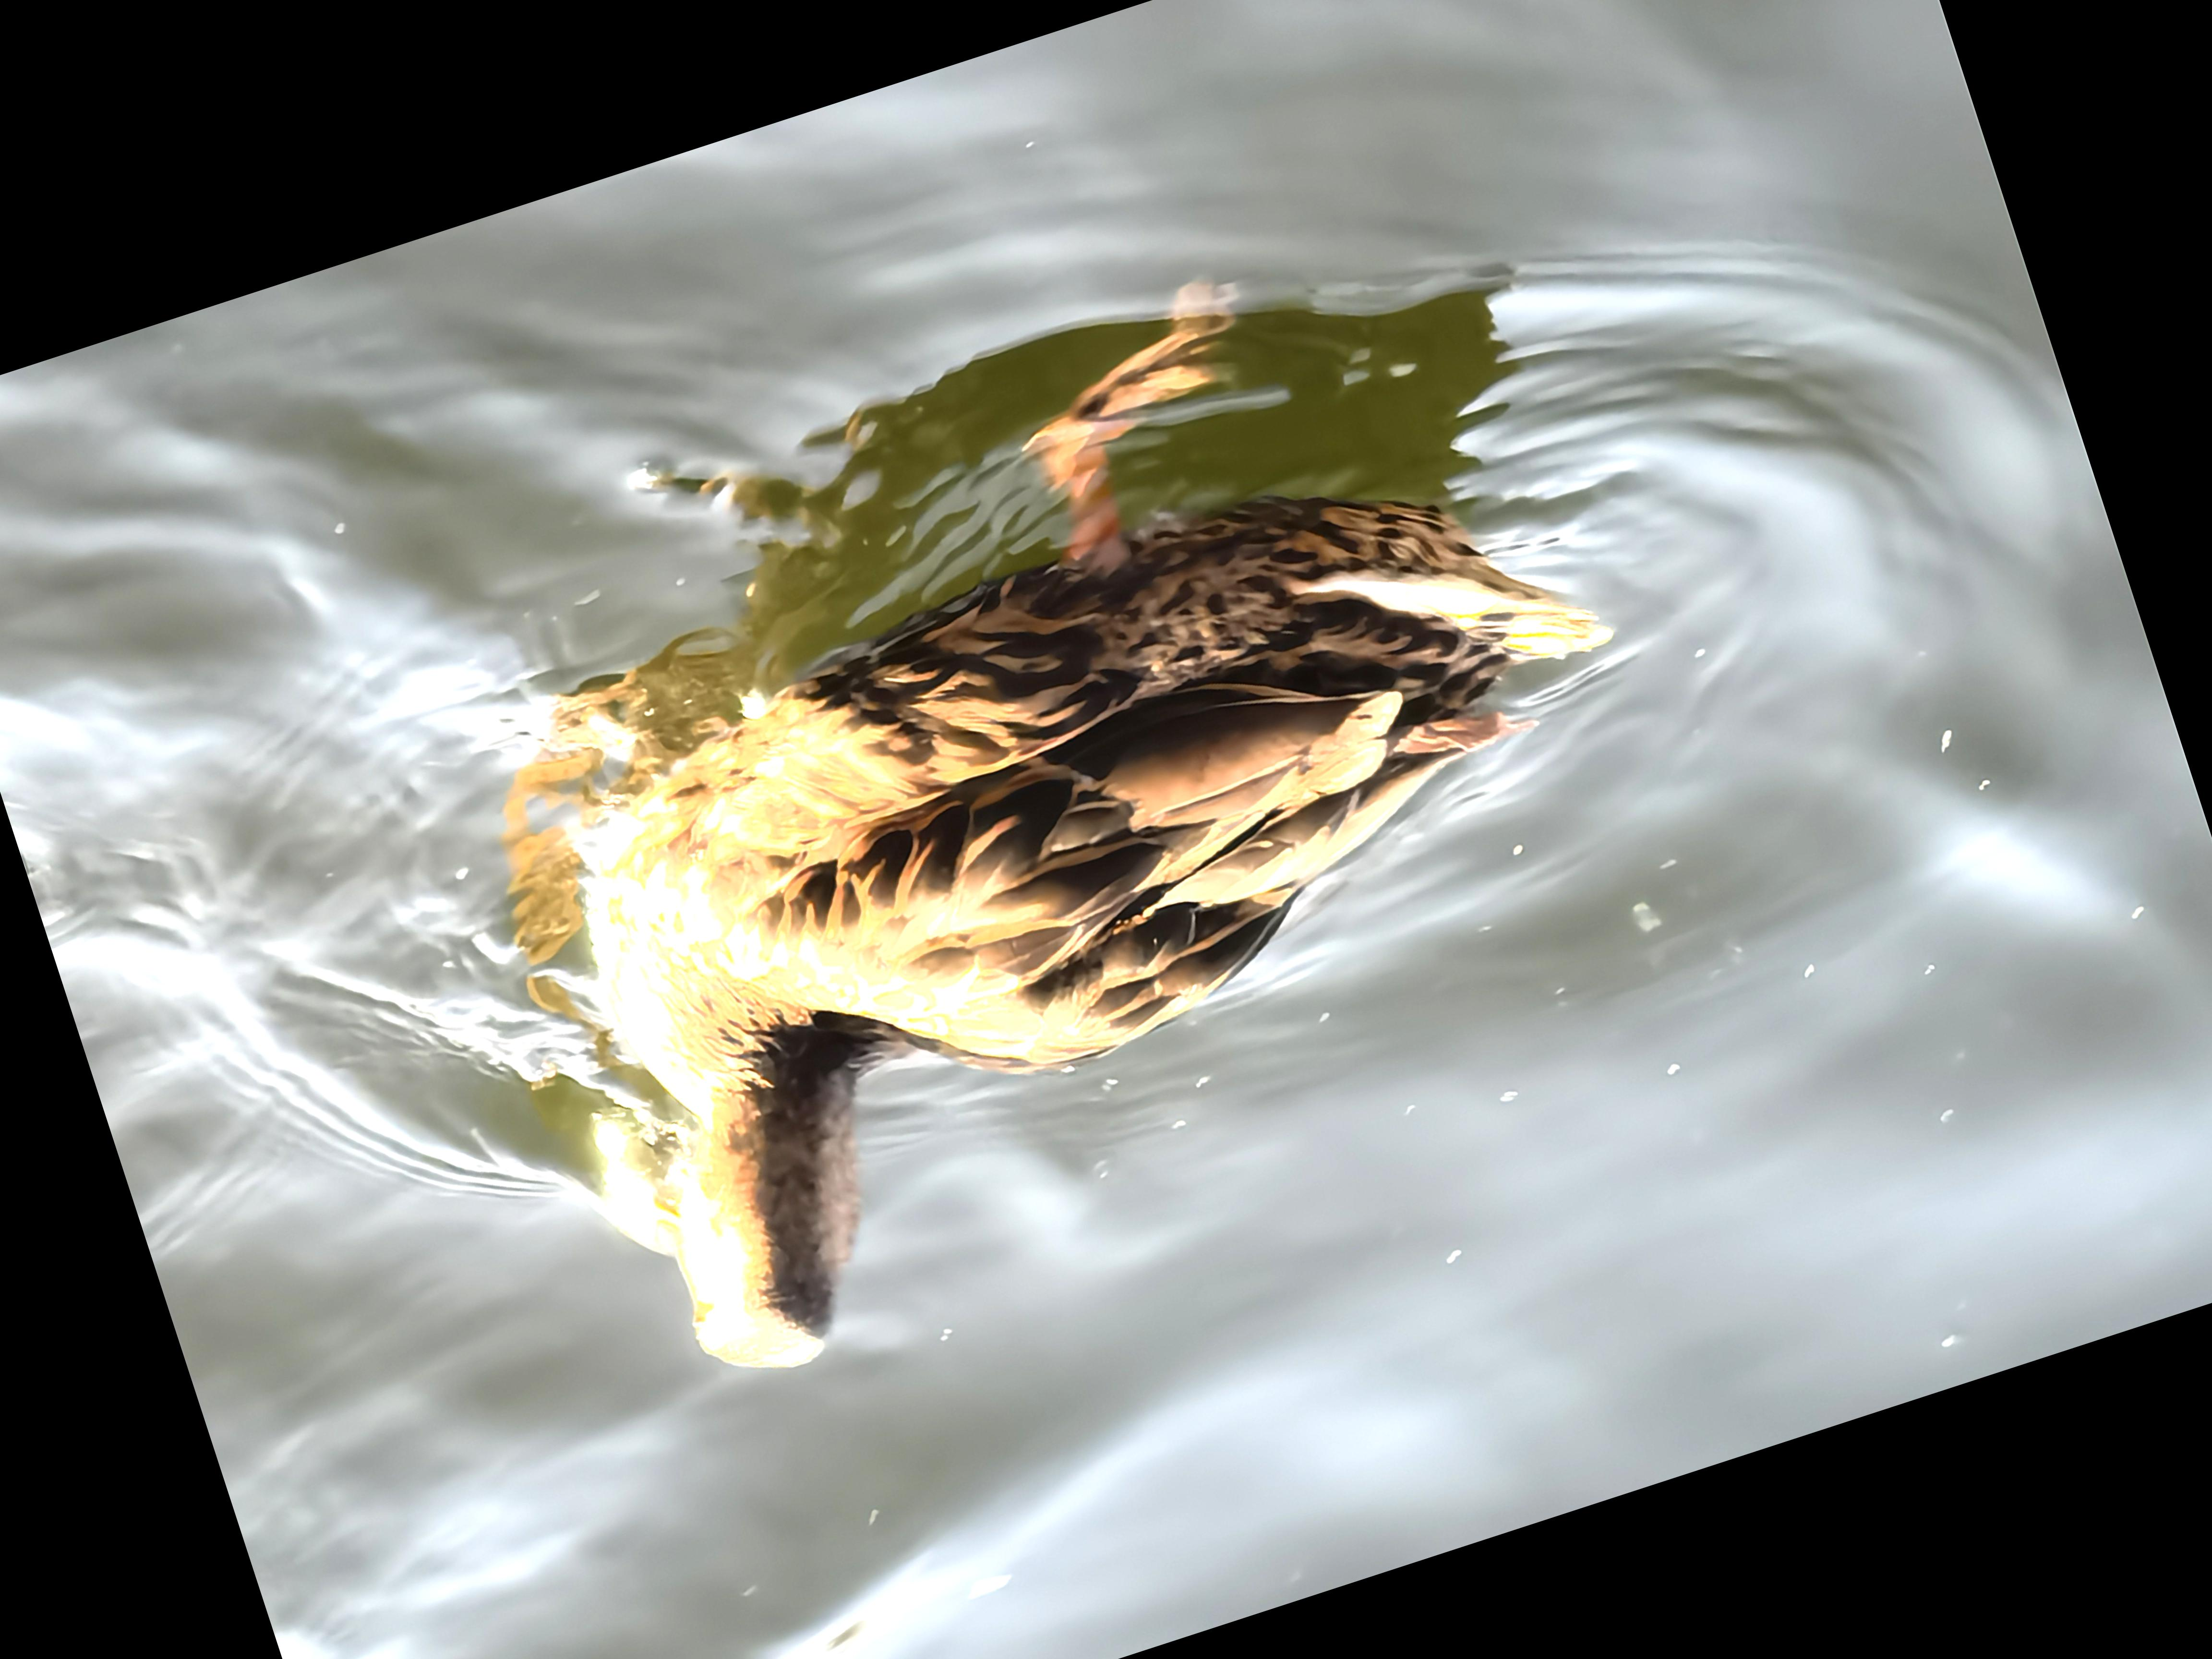duck: (387, 263, 1775, 1446)
